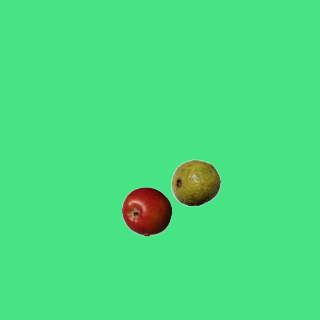Apple Braeburn: (121, 186, 171, 236)
Guava: (170, 157, 220, 207)
